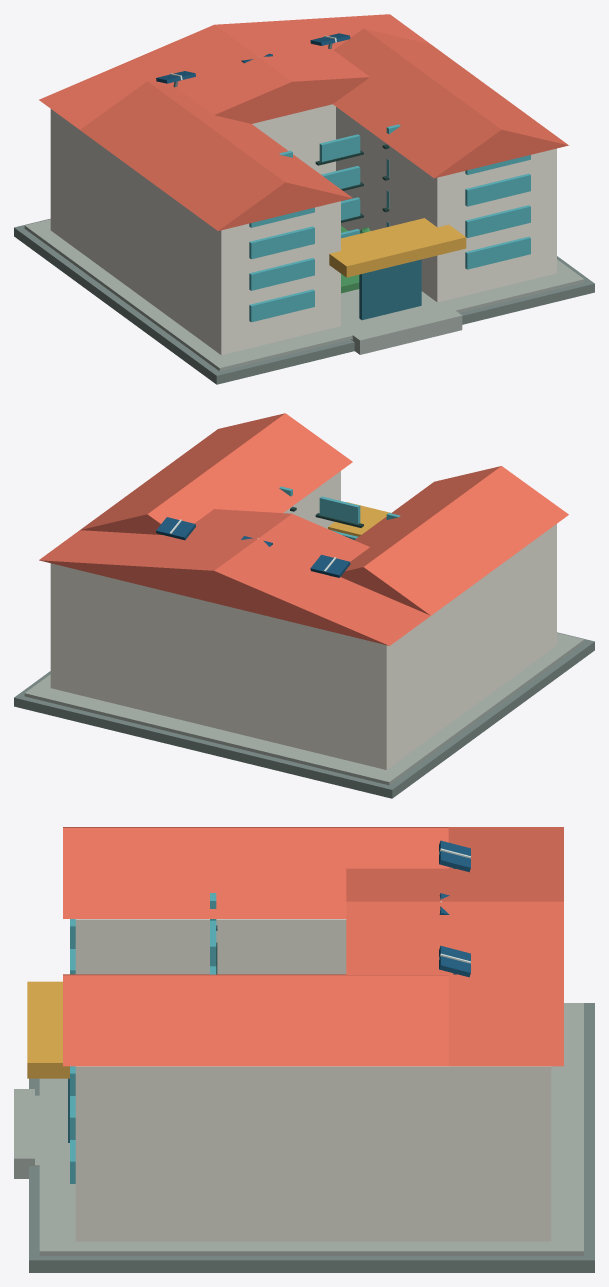
The model's file is school_lv3.glb.
The picture shows the model from 3 angles, top to bottom: view 1: azimuth 30°, elevation 25°; view 2: azimuth 150°, elevation 25°; view 3: azimuth 270°, elevation 25°; orthographic projection. The views are drawn at different scales.
Parts seen in each view (by area): view 1: coral, ivory, concrete, glass, pavement, gold, glassDark, solar; view 2: ivory, coral, concrete, pavement, solar, glass, gold; view 3: coral, ivory, concrete, pavement, gold, solar, glass.
Part boxes in pixels (x1,y1,x2,y2): coral: (39,14,568,230); ivory: (50,104,556,355); concrete: (24,219,584,371); glass: (249,124,530,322); pavement: (14,218,594,384); gold: (329,218,466,277); glassDark: (359,259,421,320); solar: (156,33,350,83); ivory: (50,471,556,769); coral: (39,413,568,645); concrete: (24,633,584,785); pavement: (14,632,594,798); solar: (156,517,350,577); glass: (279,486,400,539); gold: (328,502,390,536); coral: (63,827,563,1066); ivory: (75,919,551,1241); concrete: (14,1003,583,1255); pavement: (29,1003,594,1272); gold: (27,981,69,1078); solar: (439,840,470,977); glass: (70,893,216,1183).
Bounding box in the file's own units: 9.8 × 4.3 × 9.34.
